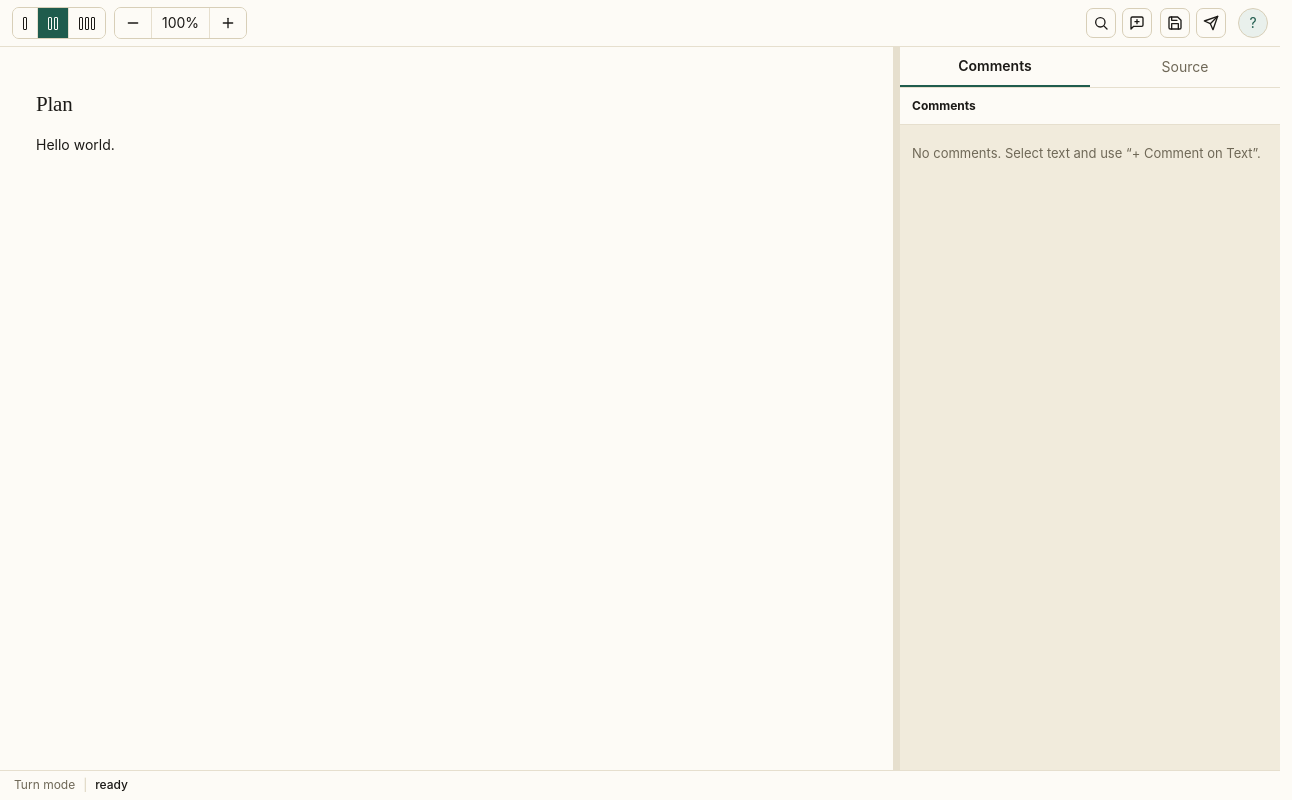
Test: App undo/redo + Escape shortcuts (memory-backed) › ⌘Z undoes an edit and ⌘⇧Z redoes it
This screenshot has width=1292, height=800.
Click the button named "comment on doc". click: [1137, 23]
box: x1=1122 y1=8 x2=1152 y2=38
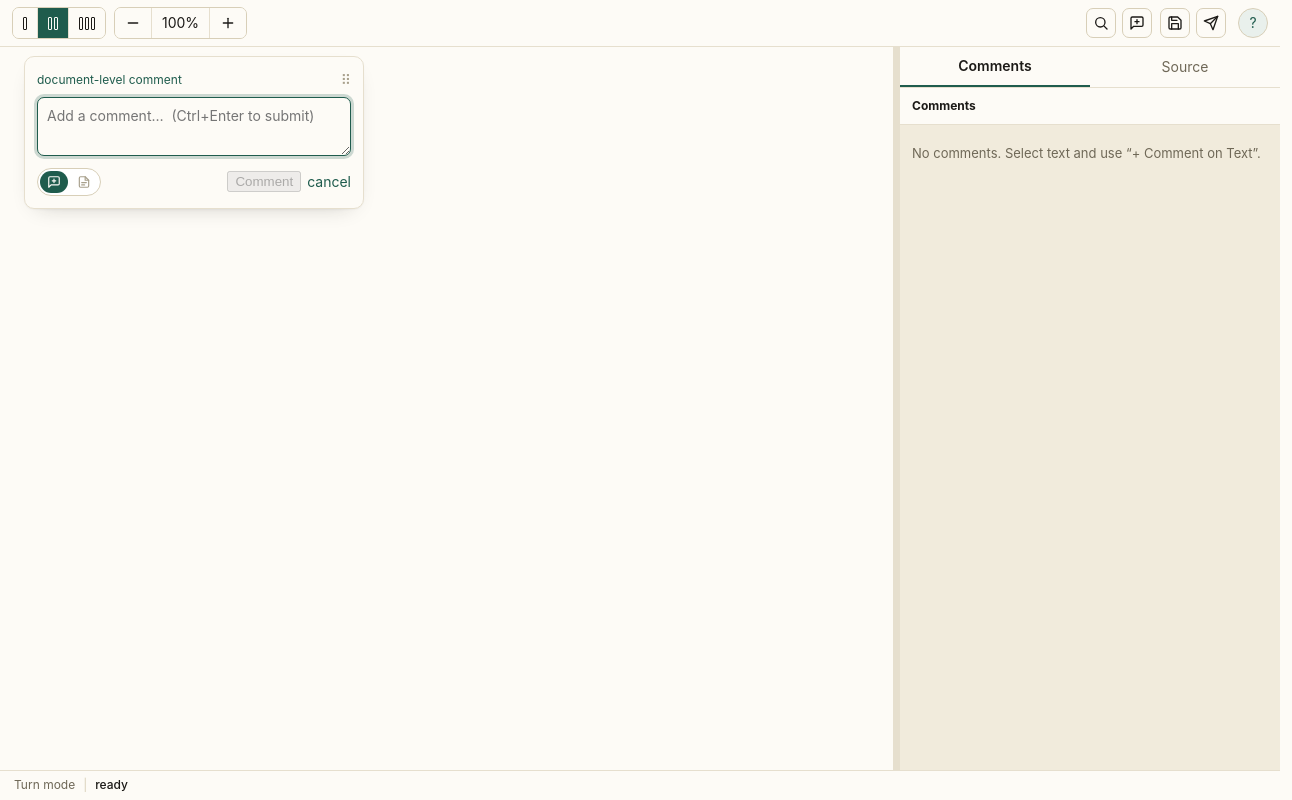
Type "First reviewer note" into the dropdown with placeholder "Add a comment… (Ctrl+Enter to submit)". click: [194, 126]
box: x1=37 y1=97 x2=351 y2=156
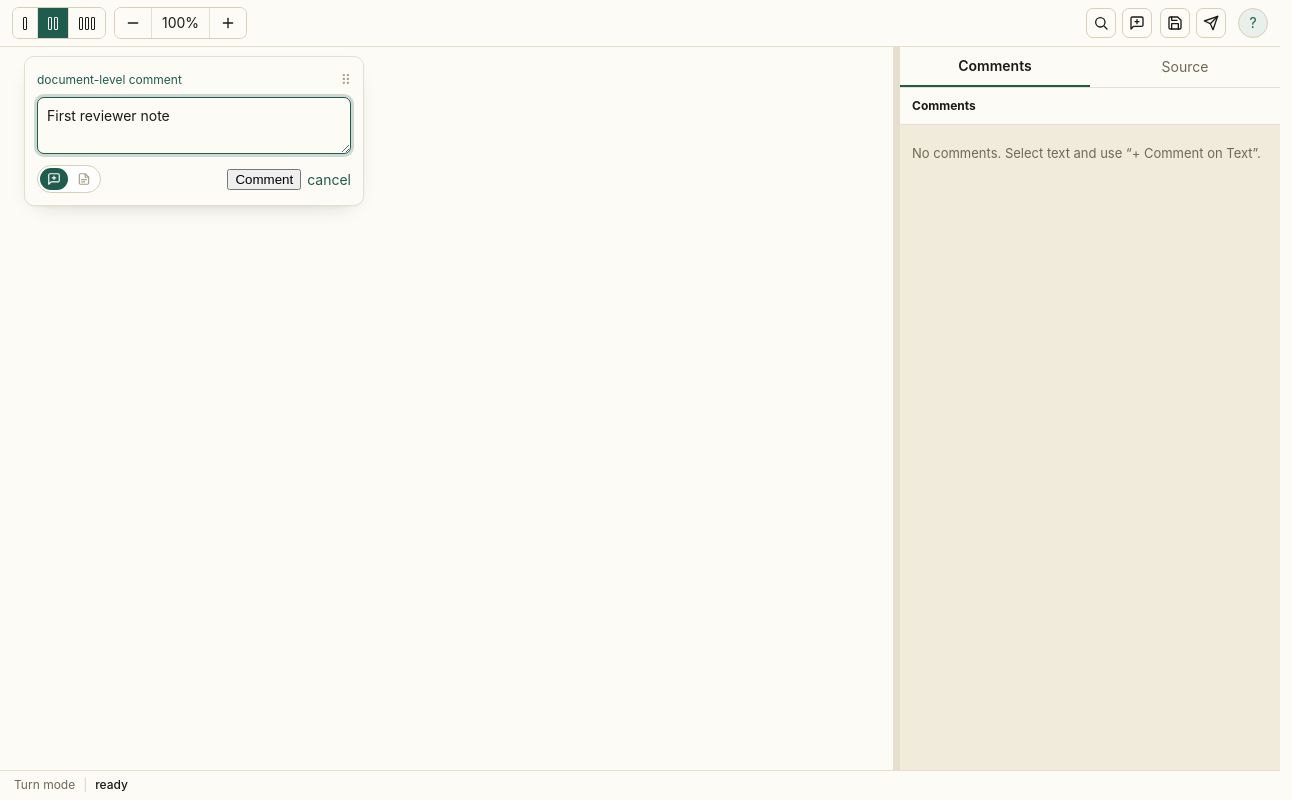
Click the button "Comment". click: [264, 179]
box: x1=227 y1=169 x2=301 y2=190
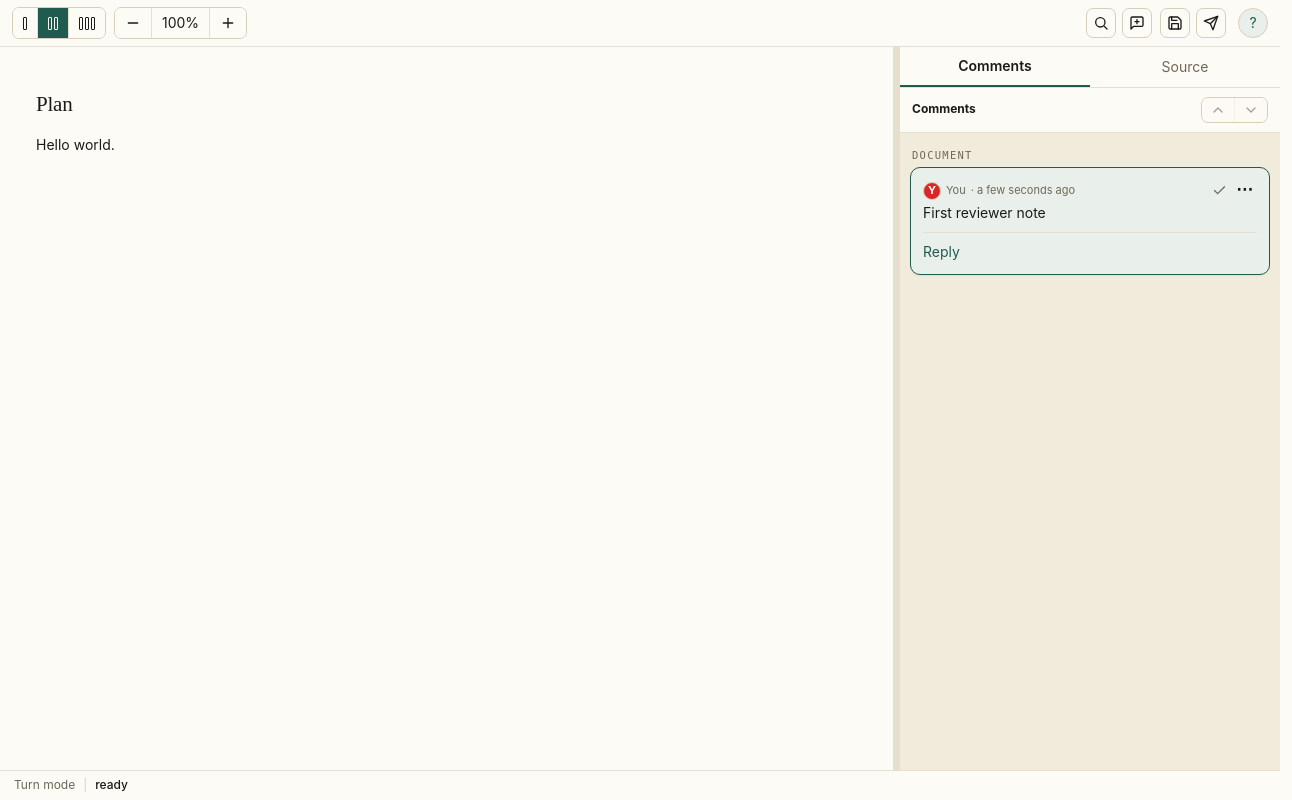
Check: the text "First reviewer note" is shown, box x1=923 y1=204 x2=1046 y2=221
Press z
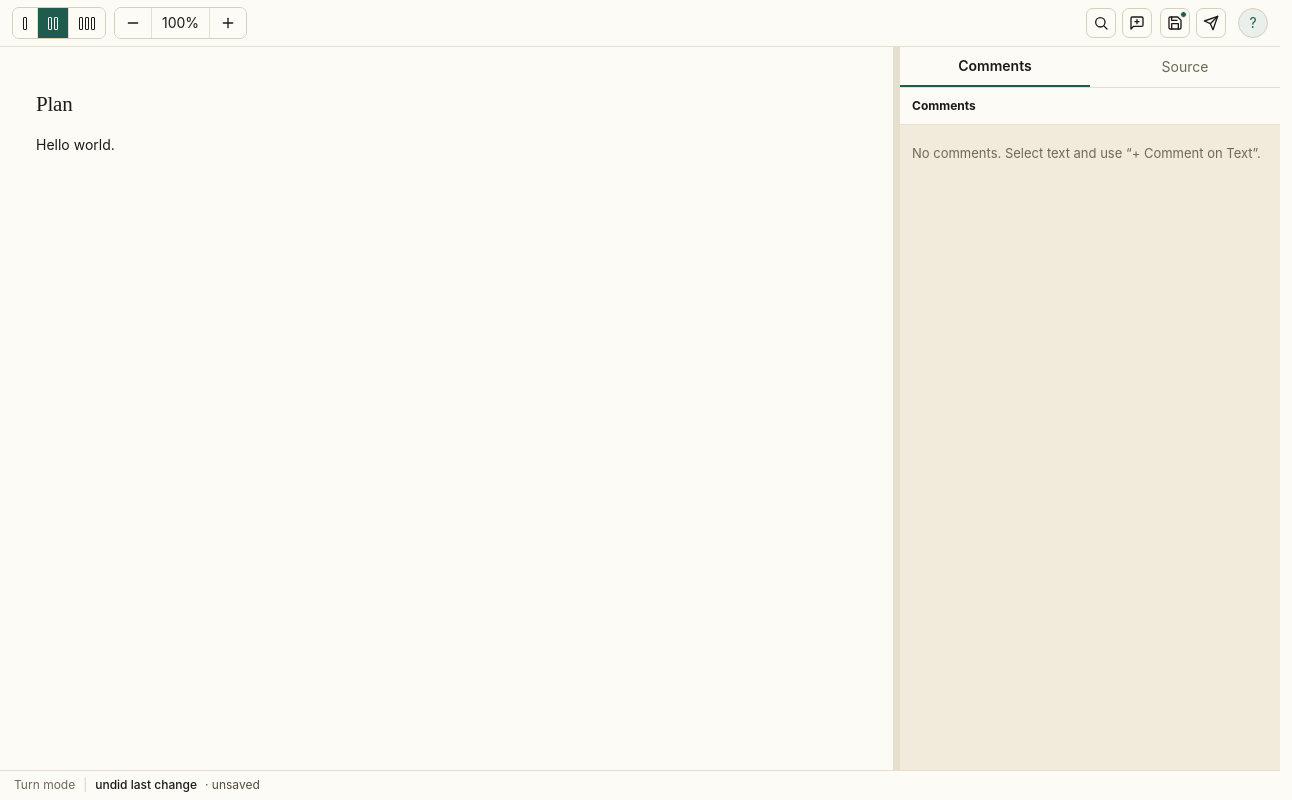
Check: the text "undid last change" is shown, box x1=95 y1=776 x2=197 y2=795
Check: the text "First reviewer note" is gone
Press z
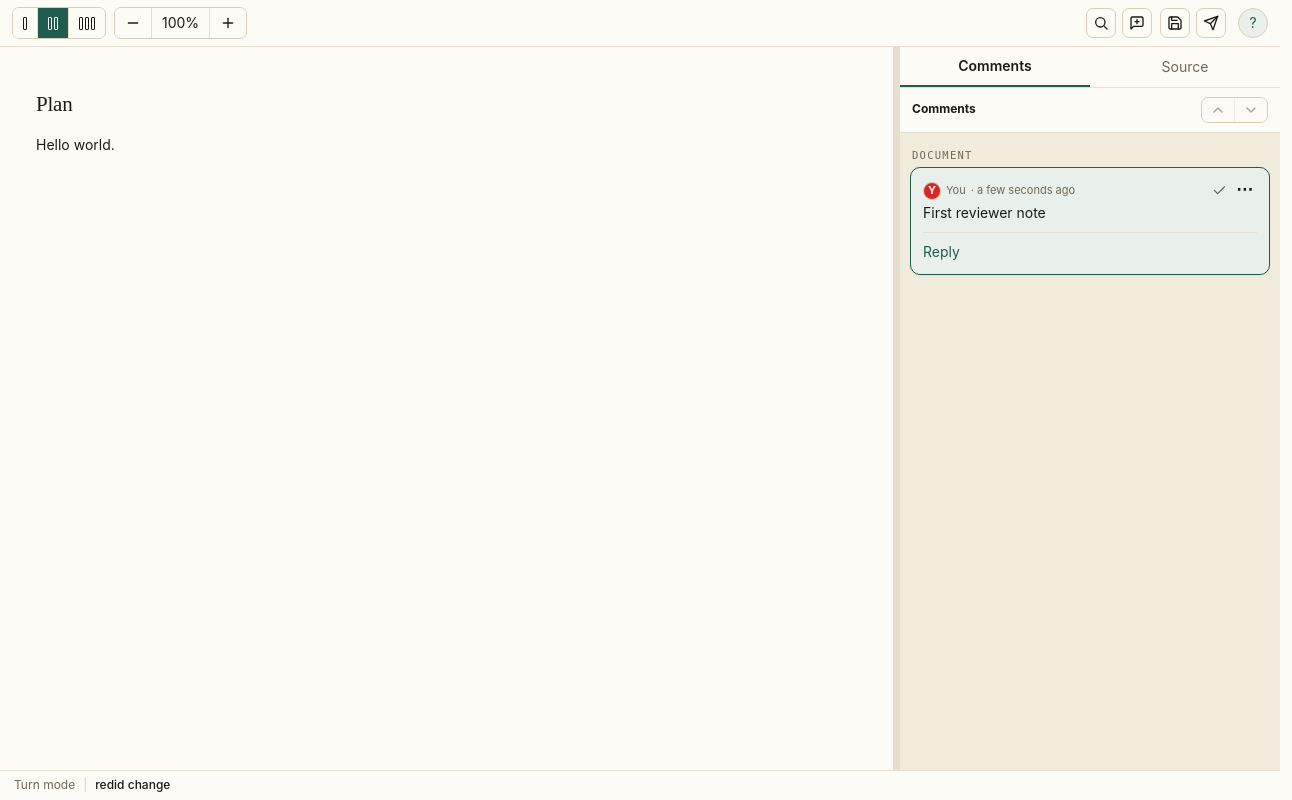
Check: the text "redid change" is shown, box x1=95 y1=776 x2=170 y2=795
Check: the text "First reviewer note" is shown, box x1=923 y1=204 x2=1046 y2=221
